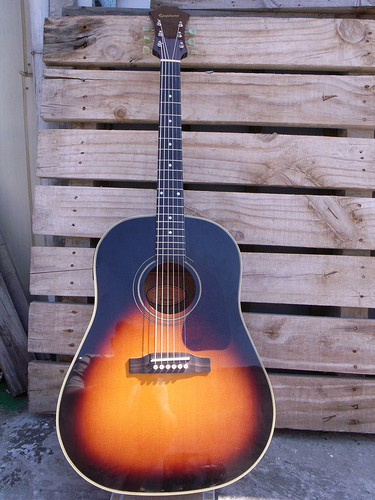guitar: (53, 1, 281, 498)
